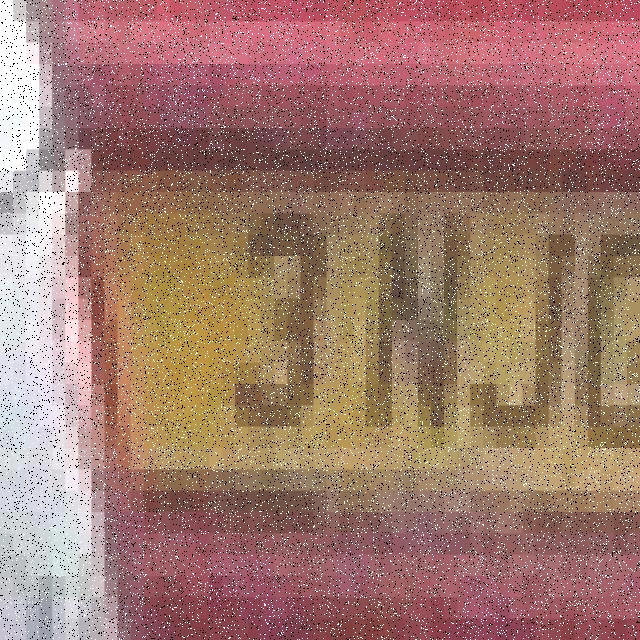licenseplate: (100, 117, 640, 546)
